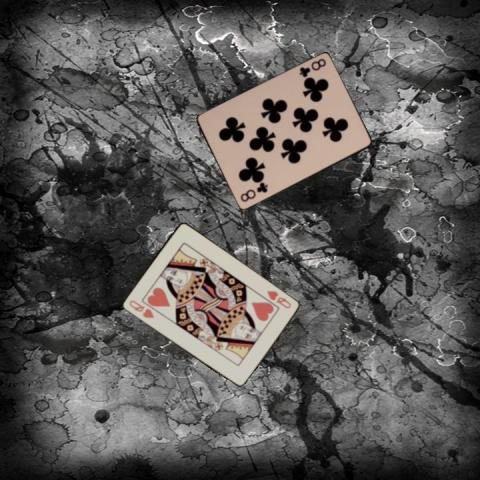8c: (237, 180, 269, 203), (296, 56, 327, 79)
Qh: (126, 297, 156, 320), (263, 287, 292, 310)
